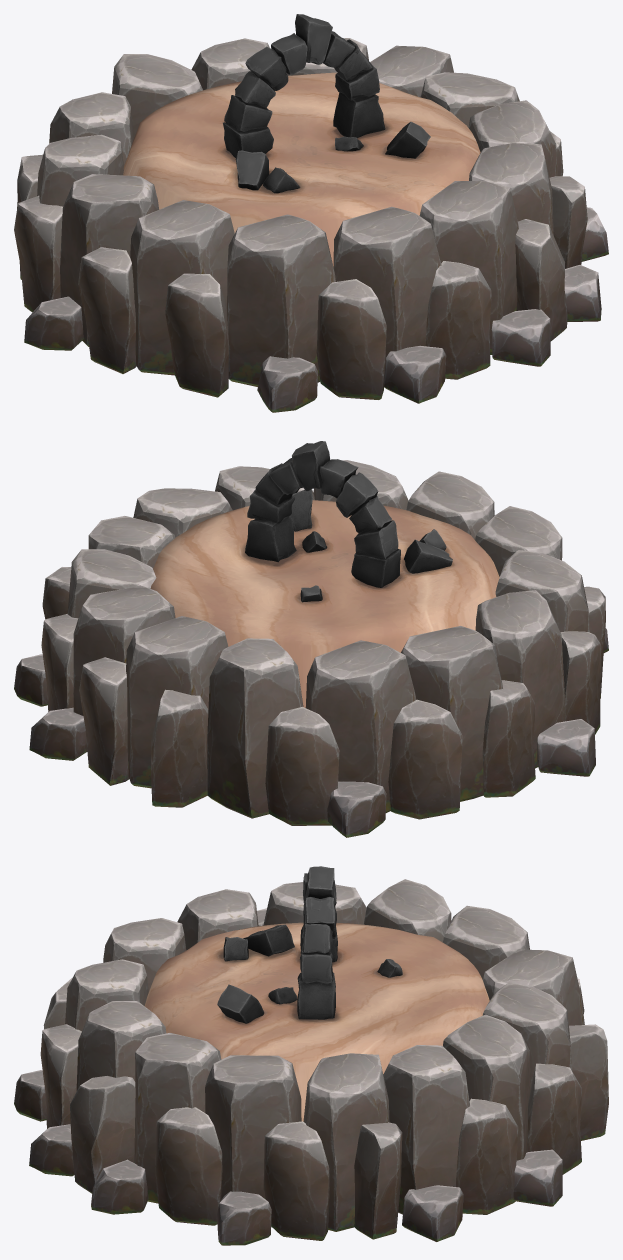
The model's file is stylize_platform.fbx.
3 renders of one model, top to bottom at view 1: azimuth 30°, elevation 25°; view 2: azimuth 150°, elevation 25°; view 3: azimuth 270°, elevation 25°, orthographic.
Visible parts, largest first — view 1: StoneGate, Stone_5_Low.002, Stone_5_Low.013, Stone_5_Low.025, Stone_5_Low.024, Stone_4_Low, Stone_5_Low.014, Stone_4_Low1, Stone_4_Low13, Stone_4_Low2, Stone_4_Low12, Stone_4_Low3 (+16 smaller); view 2: StoneGate, Stone_5_Low.017, Stone_5_Low.016, Stone_5_Low.018, Stone_5_Low.015, Stone_5_Low.014, Stone_4_Low4, Stone_4_Low5, Stone_4_Low6, Stone_5_Low.019, Stone_4_Low3, Stone_4_Low7 (+16 smaller); view 3: StoneGate, Stone_5_Low.020, Stone_5_Low.022, Stone_5_Low.021, Stone_5_Low.023, Stone_4_Low11, Stone_4_Low10, Stone_5_Low.019, Stone_4_Low8, Stone_4_Low12, Stone_4_Low9, Stone_5_Low.024 (+18 smaller).
Boxes of the visible parts, bbox=[...] form: StoneGate: bbox=[123, 14, 480, 266]; Stone_5_Low.002: bbox=[227, 214, 335, 386]; Stone_5_Low.013: bbox=[130, 200, 234, 375]; Stone_5_Low.025: bbox=[333, 206, 441, 363]; Stone_5_Low.024: bbox=[419, 181, 518, 354]; Stone_4_Low: bbox=[316, 279, 386, 399]; Stone_5_Low.014: bbox=[60, 174, 159, 346]; Stone_4_Low1: bbox=[165, 273, 228, 397]; Stone_4_Low13: bbox=[425, 261, 491, 379]; Stone_4_Low2: bbox=[78, 247, 136, 373]; Stone_4_Low12: bbox=[515, 219, 567, 341]; Stone_4_Low3: bbox=[14, 195, 62, 312]; StoneGate: bbox=[150, 441, 499, 707]; Stone_5_Low.017: bbox=[207, 638, 303, 818]; Stone_5_Low.016: bbox=[305, 640, 416, 812]; Stone_5_Low.018: bbox=[126, 616, 228, 788]; Stone_5_Low.015: bbox=[401, 626, 502, 801]; Stone_5_Low.014: bbox=[475, 590, 564, 768]; Stone_4_Low4: bbox=[388, 699, 462, 819]; Stone_4_Low5: bbox=[265, 707, 339, 825]; Stone_4_Low6: bbox=[151, 689, 208, 807]; Stone_5_Low.019: bbox=[73, 586, 175, 715]; Stone_4_Low3: bbox=[482, 680, 535, 797]; Stone_4_Low7: bbox=[79, 657, 129, 785]; StoneGate: bbox=[144, 866, 489, 1121]; Stone_5_Low.020: bbox=[383, 1045, 469, 1214]; Stone_5_Low.022: bbox=[205, 1055, 301, 1199]; Stone_5_Low.021: bbox=[303, 1053, 389, 1231]; Stone_5_Low.023: bbox=[134, 1033, 221, 1203]; Stone_4_Low11: bbox=[155, 1107, 222, 1225]; Stone_4_Low10: bbox=[263, 1121, 329, 1240]; Stone_5_Low.019: bbox=[443, 1014, 530, 1160]; Stone_4_Low8: bbox=[456, 1098, 518, 1214]; Stone_4_Low12: bbox=[70, 1076, 135, 1193]; Stone_4_Low9: bbox=[354, 1122, 402, 1239]; Stone_5_Low.024: bbox=[76, 1001, 166, 1090].
Size of the model in its own units: 2016 by 972 by 1996.
2 materials, 2 textured.
